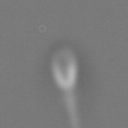normal: (57, 89, 84, 128)
